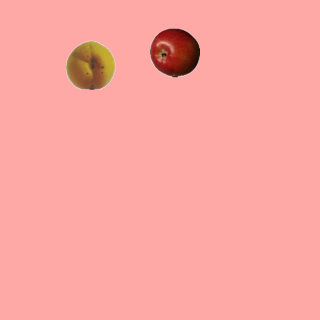Apple Braeburn: (149, 27, 199, 77)
Peach 2: (65, 39, 115, 89)
